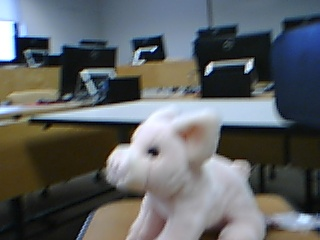piggy: (104, 106, 267, 240)
